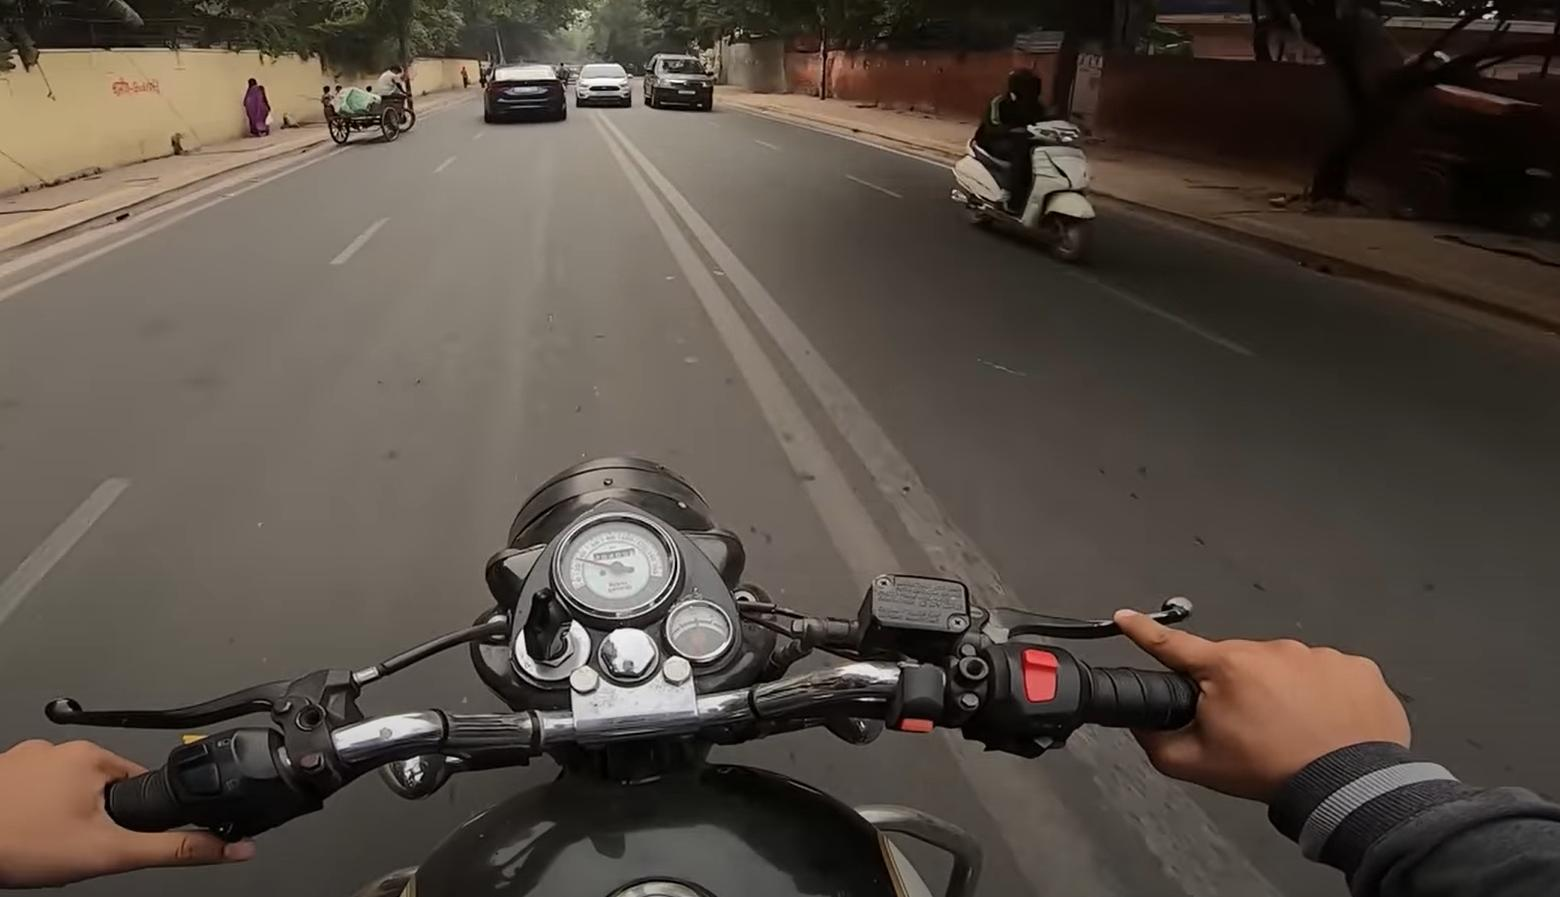front: (1018, 116, 1099, 263)
